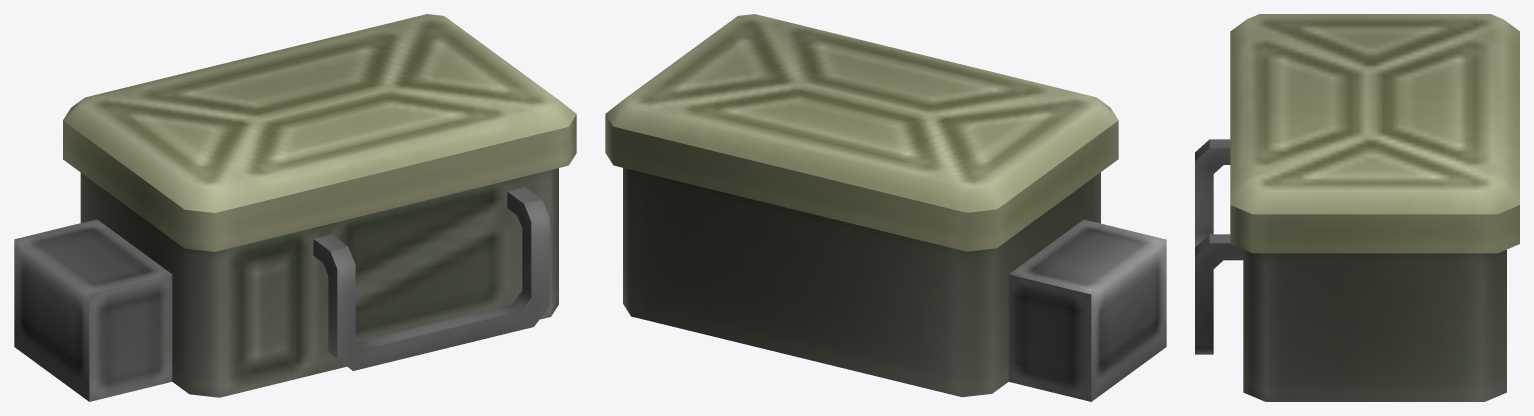
File: Generator.FBX
The picture shows the model from 3 angles, left to right: view 1: azimuth 30°, elevation 25°; view 2: azimuth 150°, elevation 25°; view 3: azimuth 270°, elevation 25°; orthographic projection.
Parts seen in each view (by area): view 1: Generator; view 2: Generator; view 3: Generator.
Boxes of the visible parts, x1,y1,x2,y2 form: Generator: (14, 14, 576, 401); Generator: (605, 14, 1166, 401); Generator: (1195, 14, 1519, 401).
Bounding box in the file's own units: 507 × 216 × 306.
